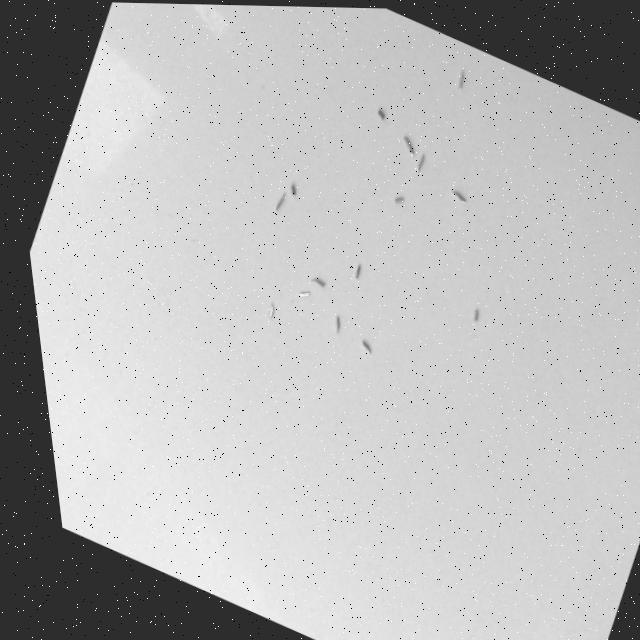Wereng: (394, 130, 423, 159), (267, 186, 292, 216), (291, 281, 318, 308), (325, 310, 346, 336), (411, 150, 432, 174), (448, 188, 472, 208), (307, 273, 331, 290), (454, 68, 471, 92), (263, 298, 281, 320), (350, 260, 366, 284), (469, 304, 485, 325), (286, 180, 303, 199), (357, 339, 376, 354), (375, 107, 390, 122), (394, 193, 407, 205)
